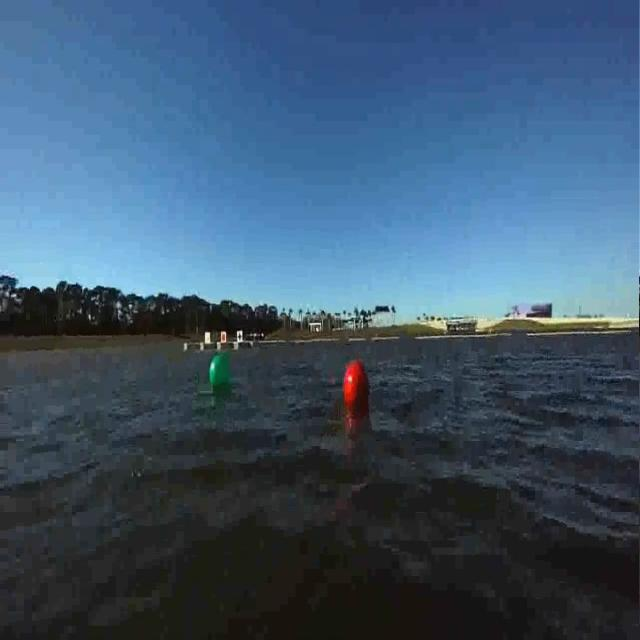green-buoy: (208, 353, 233, 390)
red-buoy: (344, 361, 370, 407)
